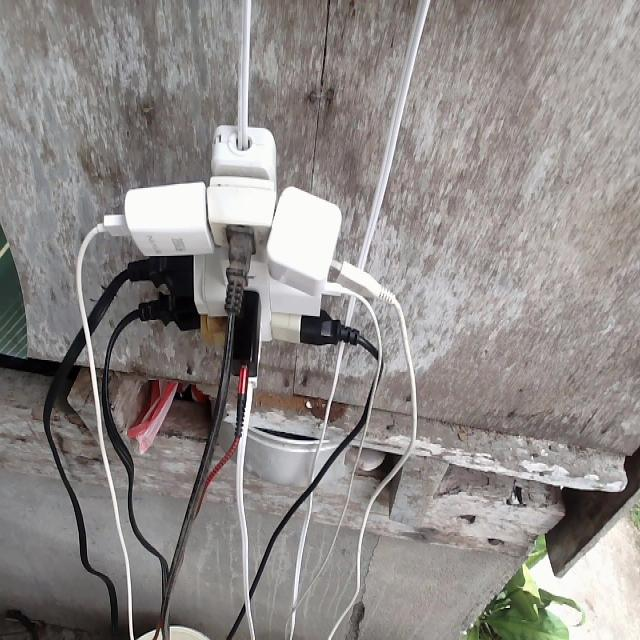-: (71, 108, 404, 453)
